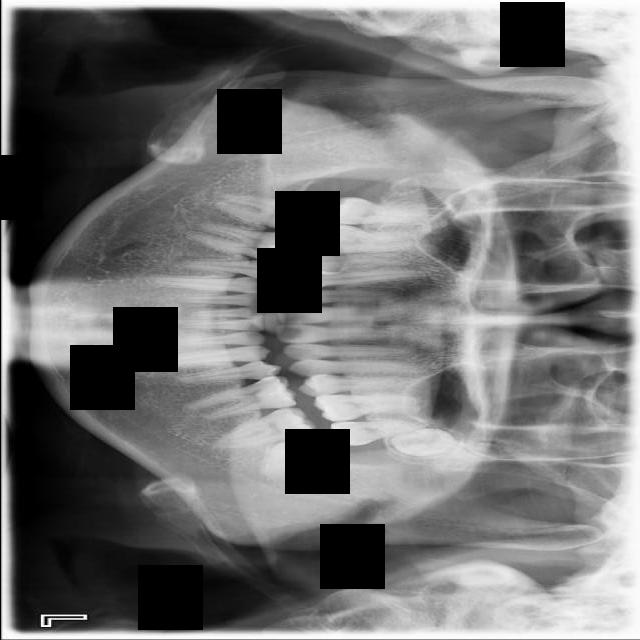52: (247, 220, 302, 273)
73: (30, 600, 38, 610)
BioHorizons Implant: (326, 420, 424, 447)
BioLife Implant: (387, 427, 458, 458)
Biomet 3i Implant: (266, 439, 338, 485)
Blue Sky Bio Implant: (211, 405, 318, 449)
Caries: (327, 196, 440, 225)
Implant: (213, 189, 318, 236)
